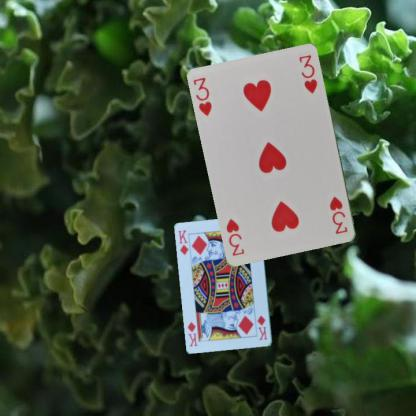3h: (191, 75, 213, 118), (327, 194, 349, 236)
Kd: (176, 228, 190, 257), (255, 313, 268, 342)
